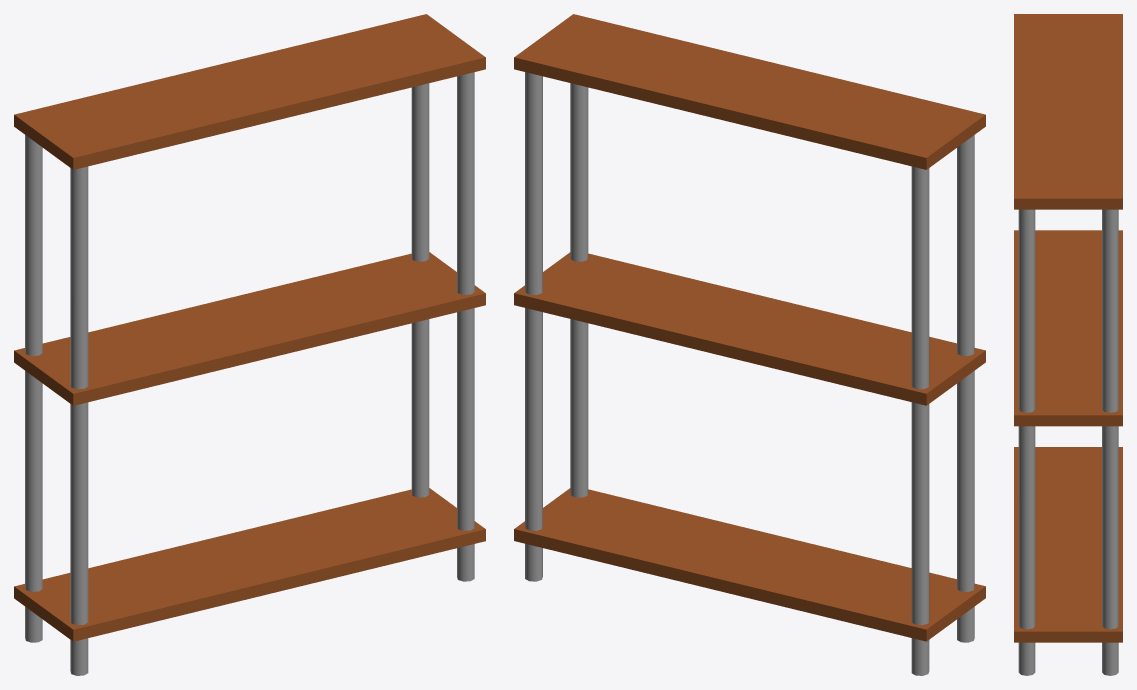
Rendered from Shelf.fbx.
3 views of the same model, side by side, from view 1: azimuth 30°, elevation 25°; view 2: azimuth 150°, elevation 25°; view 3: azimuth 270°, elevation 25° (orthographic). The views are drawn at different scales.
Visible parts, largest first — view 1: Cube.002; view 2: Cube.002; view 3: Cube.002.
Part boxes in pixels (bbox=[...]): Cube.002: bbox=[14, 14, 485, 675]; Cube.002: bbox=[514, 14, 985, 675]; Cube.002: bbox=[1014, 14, 1122, 675].
Size of the model in its own units: 549 by 665 by 137.
